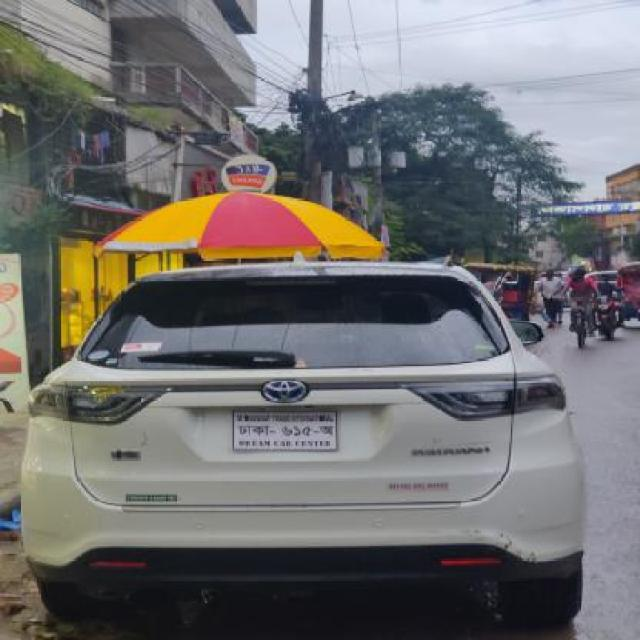numberplate: (231, 408, 340, 452)
